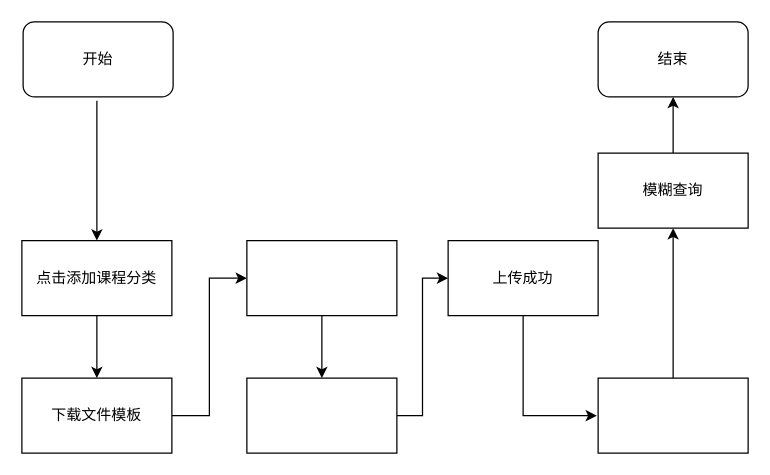
Image size: 770x475. Some labels were removed from this diagram. Here are the shapes that lost their labels. From the top down, the centre of each, then its label:
At pixel 321 277: "编辑分类文件".
At pixel 321 415: "上传文件".
At pixel 672 415: "课程分类列表".
